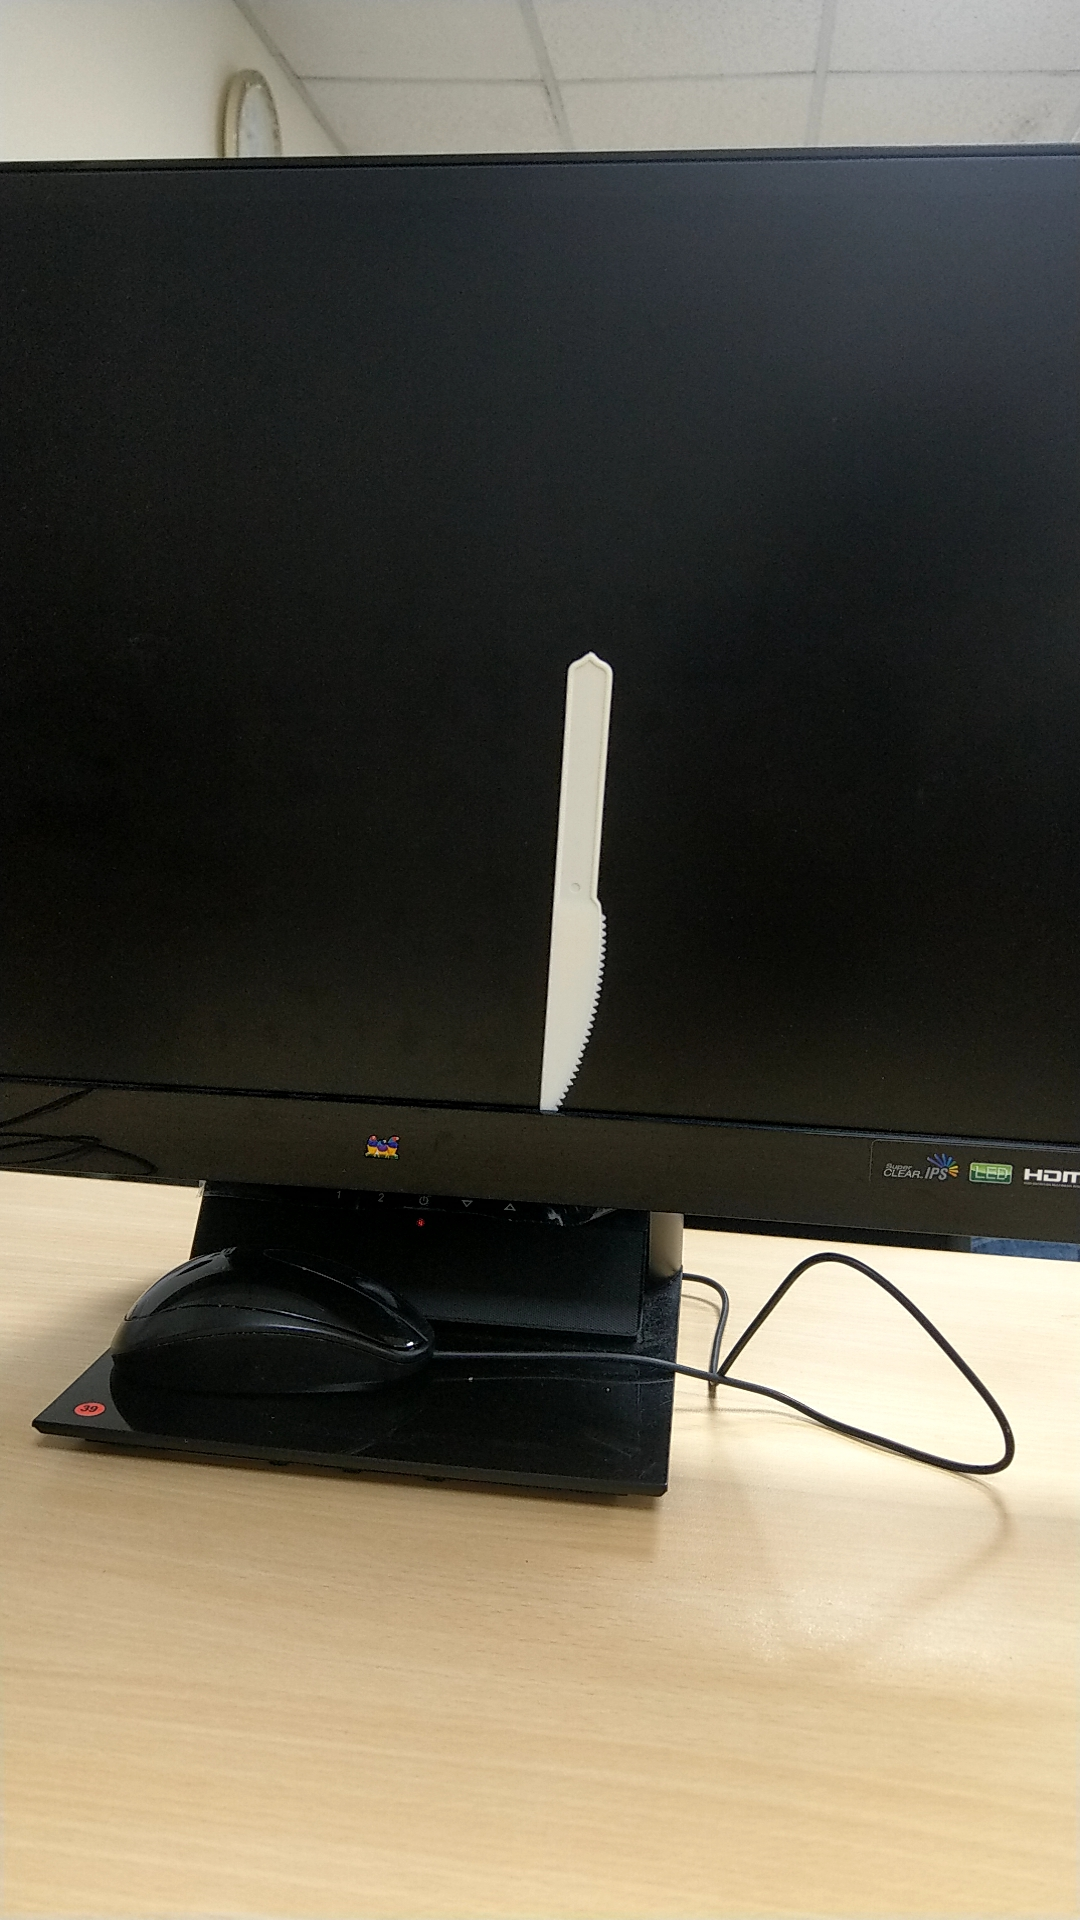knife: (505, 622, 641, 1112)
